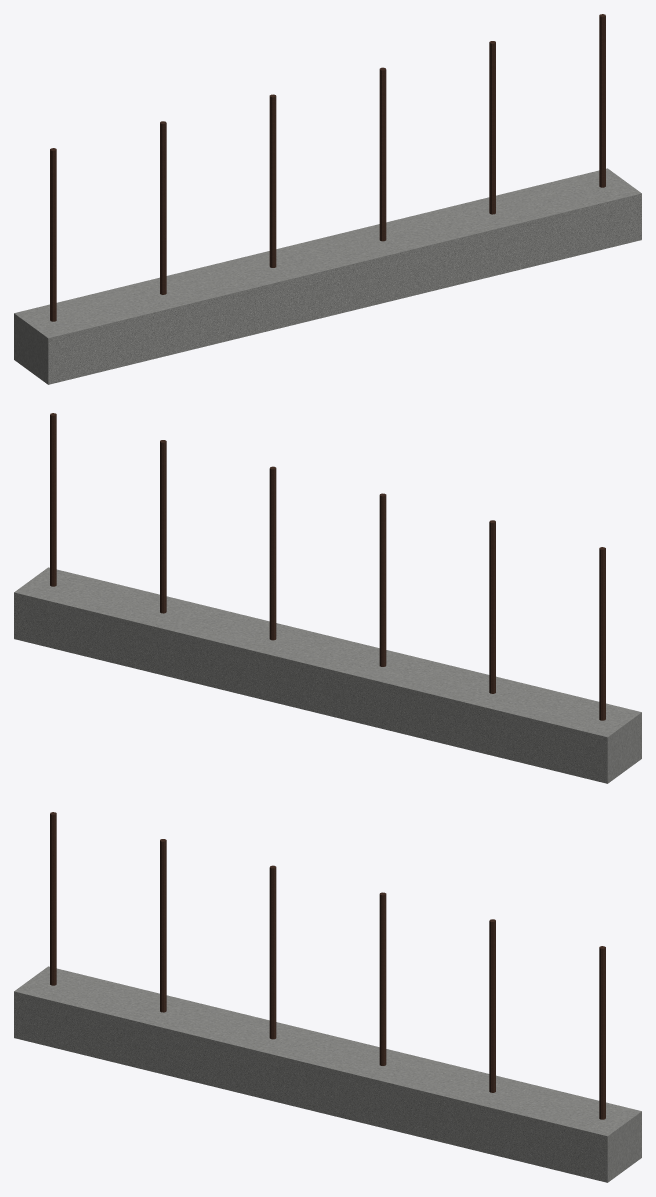
Rendered from estate_wall_window_1b.glb.
3 views of the same model, one above another, from view 1: azimuth 30°, elevation 25°; view 2: azimuth 150°, elevation 25°; view 3: azimuth 330°, elevation 25° (orthographic).
Parts seen in each view (by area): view 1: Cube, Cylinder.003, Cylinder.002, Cylinder.001, Cylinder.005, Cylinder, Cylinder.004; view 2: Cube, Cylinder.003, Cylinder.002, Cylinder.001, Cylinder.005, Cylinder, Cylinder.004; view 3: Cube, Cylinder.002, Cylinder.003, Cylinder, Cylinder.004, Cylinder.001, Cylinder.005.
Boxes of the visible parts, <box> form: Cube: <box>14,168,641,384</box>; Cylinder.003: <box>379,67,386,241</box>; Cylinder.002: <box>269,94,276,267</box>; Cylinder.001: <box>160,121,166,294</box>; Cylinder.005: <box>599,14,605,187</box>; Cylinder: <box>50,148,56,321</box>; Cylinder.004: <box>489,41,495,214</box>; Cube: <box>14,567,641,783</box>; Cylinder.003: <box>269,466,276,640</box>; Cylinder.002: <box>379,493,386,666</box>; Cylinder.001: <box>489,520,495,693</box>; Cylinder.005: <box>50,413,56,586</box>; Cylinder: <box>599,547,605,720</box>; Cylinder.004: <box>160,440,166,613</box>; Cube: <box>14,966,641,1182</box>; Cylinder.002: <box>269,865,276,1039</box>; Cylinder.003: <box>379,892,386,1065</box>; Cylinder: <box>50,812,56,985</box>; Cylinder.004: <box>489,919,495,1092</box>; Cylinder.001: <box>160,839,166,1012</box>; Cylinder.005: <box>599,946,605,1119</box>.
Bounding box in the file's own units: 4 × 1.4 × 0.4.
2 materials, 2 textured.
